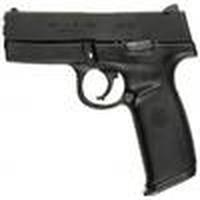gun: (2, 6, 199, 183)
